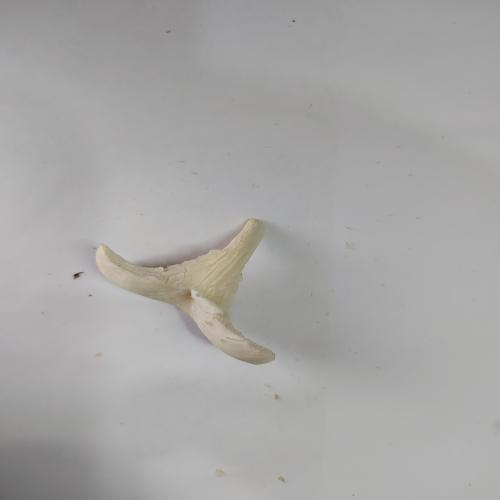Oyster Mushroom: (94, 217, 277, 366)
